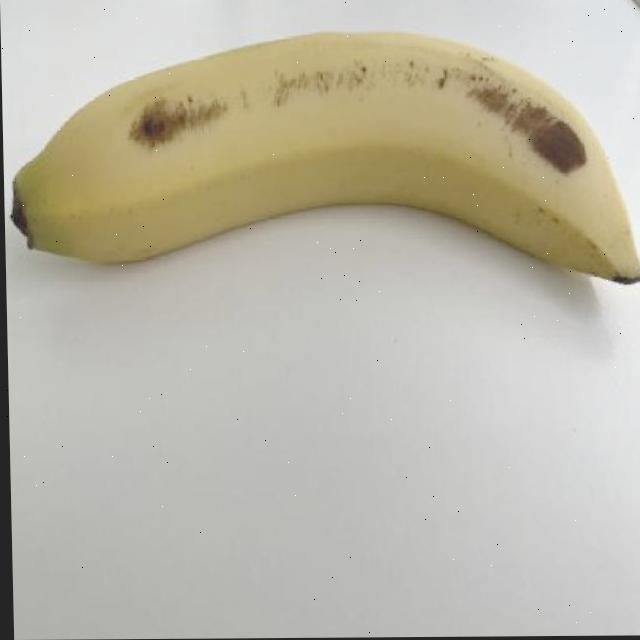banana: (4, 27, 640, 293)
